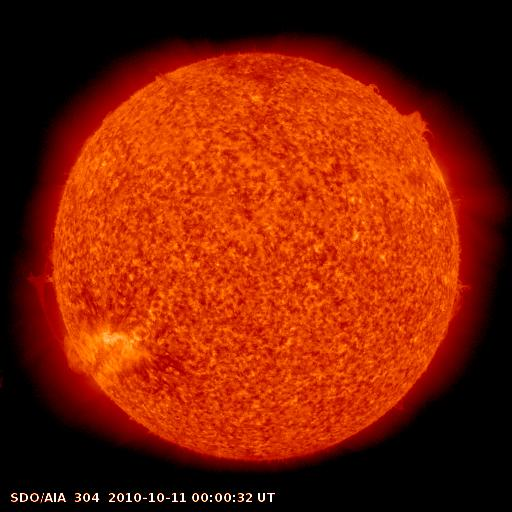prominence: (19, 236, 62, 356), (396, 102, 452, 164), (448, 272, 484, 335), (355, 74, 396, 110)
